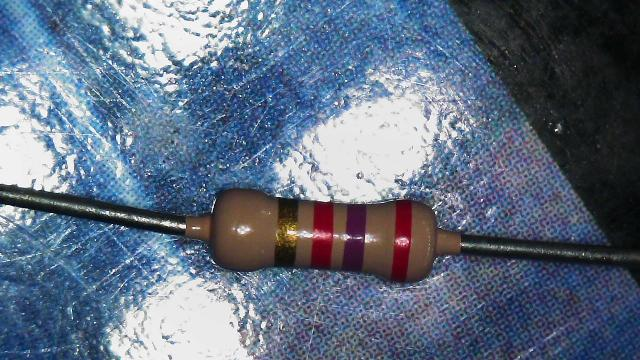gold: (277, 195, 297, 268)
red: (394, 196, 412, 278), (314, 200, 331, 270)
resistor: (188, 156, 458, 319)
violet: (346, 203, 364, 272)
